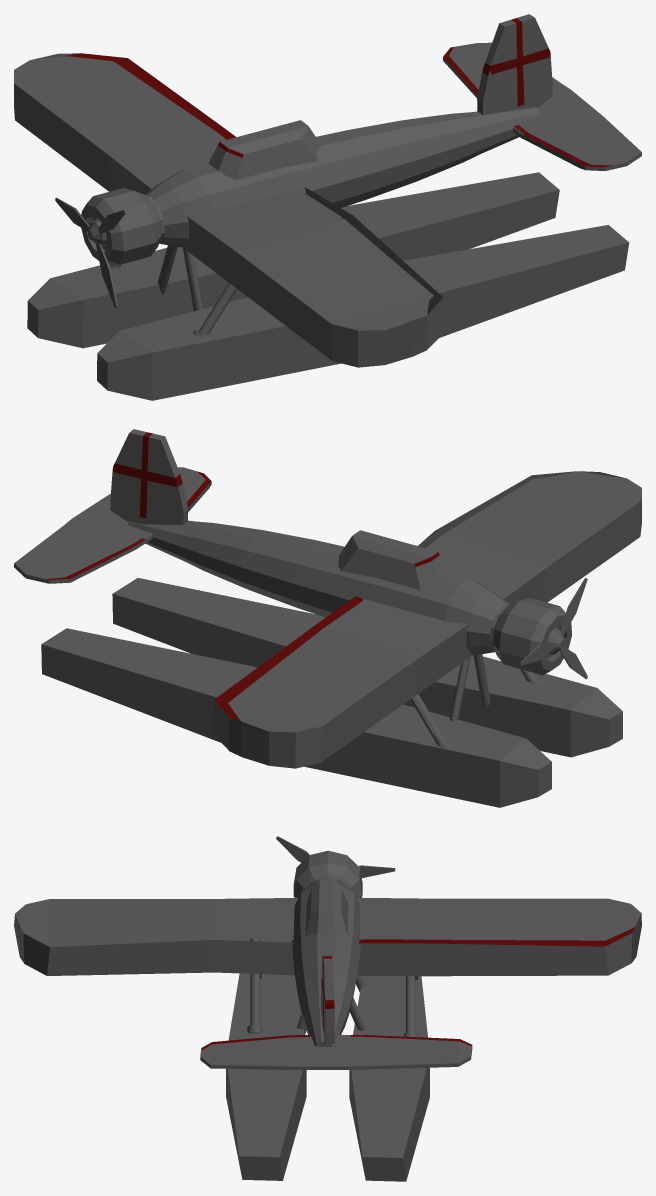
Rendered from Sea Plane Model v2.fbx.
3 views of the same model, one above another, from view 1: azimuth 30°, elevation 25°; view 2: azimuth 150°, elevation 25°; view 3: azimuth 270°, elevation 25° (orthographic). The views are drawn at different scales.
Visible parts, largest first — view 1: Cube.001; view 2: Cube.001; view 3: Cube.001.
Part boxes in pixels (x1,y1,x2,y2): Cube.001: (14, 14, 641, 400); Cube.001: (14, 429, 641, 807); Cube.001: (14, 836, 641, 1181).
Bounding box in the file's own units: 636 × 290 × 776.
